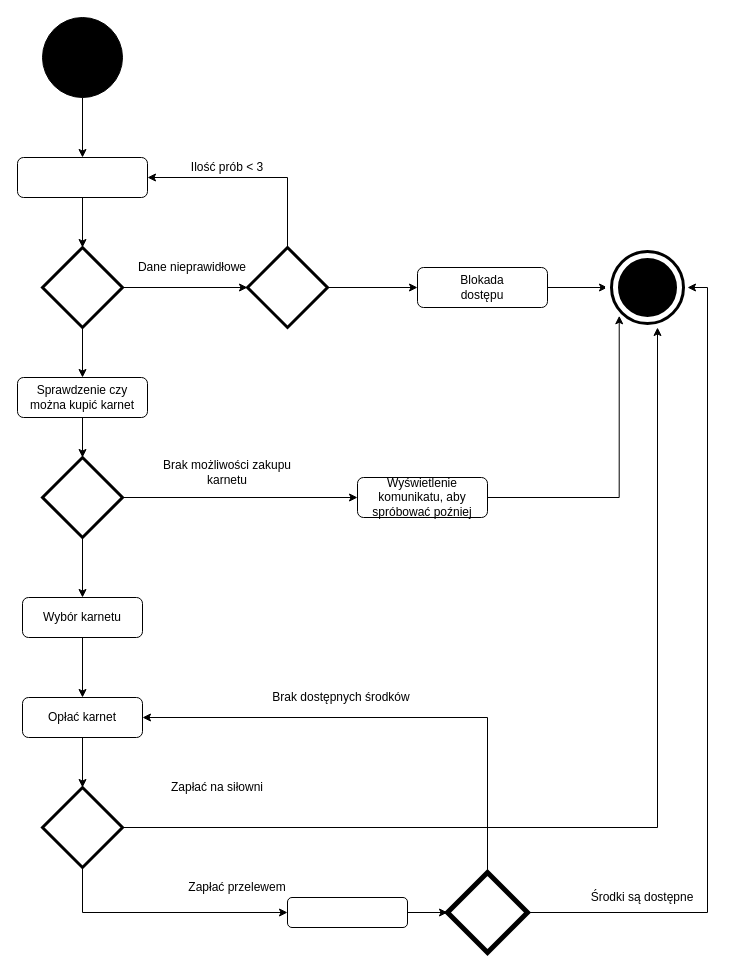
This 733x972 diagram has some shape labels left out. The box of each missing label's shape, as (x1, y1, x2, y2) in pixels:
Sprawdzenie środków: (286, 896, 408, 928)
Zaloguj się: (16, 156, 148, 198)
